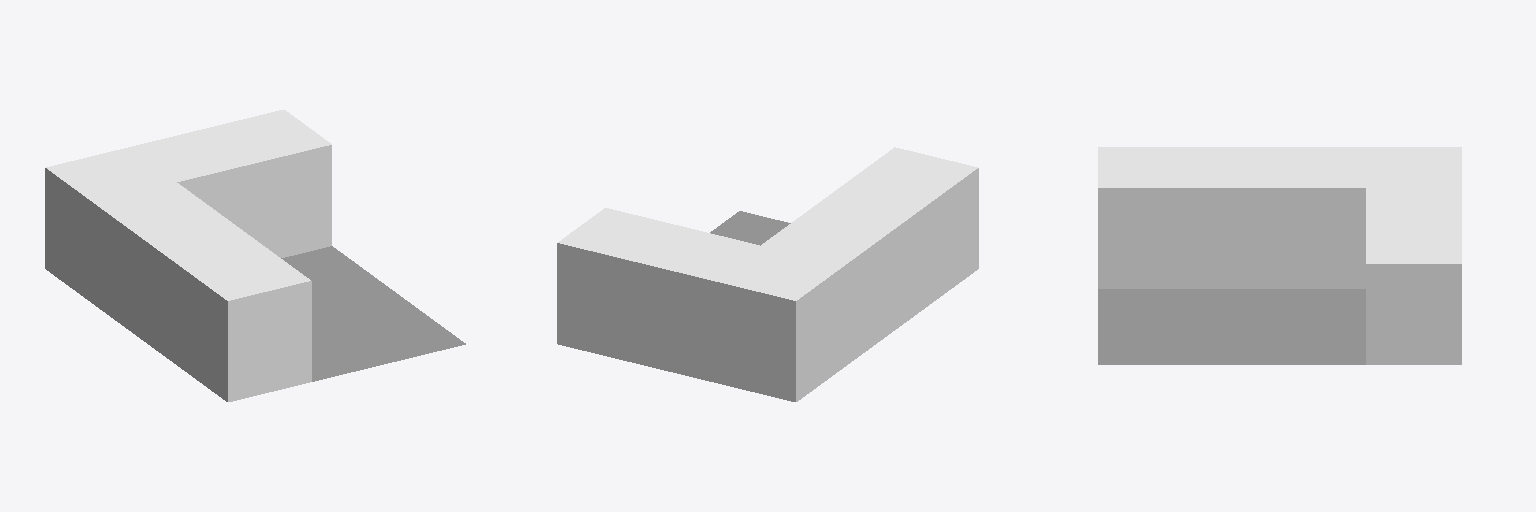
Rendered from corridor01.obj.
3 views of the same model, side by side, from view 1: azimuth 30°, elevation 25°; view 2: azimuth 150°, elevation 25°; view 3: azimuth 270°, elevation 25° (orthographic).
Parts seen in each view (by area): view 1: room_7_45, wall_1_6, ground_1, wall_4_27, wall_2_13; view 2: wall_6_41, room_7_45, wall_1_6, ground_1; view 3: wall_3_20, ground_1, room_7_45, wall_5_34, wall_3_21.
Part boxes in pixels (x1,y1,x2,y2): room_7_45: (48, 110, 330, 298); wall_1_6: (47, 169, 227, 401); ground_1: (281, 246, 465, 381); wall_4_27: (177, 145, 331, 257); wall_2_13: (228, 281, 311, 401); wall_6_41: (557, 243, 797, 401); room_7_45: (559, 151, 974, 299); wall_1_6: (798, 168, 978, 400); ground_1: (710, 211, 790, 245); wall_3_20: (1098, 188, 1365, 288); ground_1: (1098, 289, 1365, 364); room_7_45: (1104, 147, 1461, 263); wall_5_34: (1366, 264, 1461, 364); wall_3_21: (1101, 185, 1371, 186).
Bounding box in the file's own units: 616 × 250 × 815.